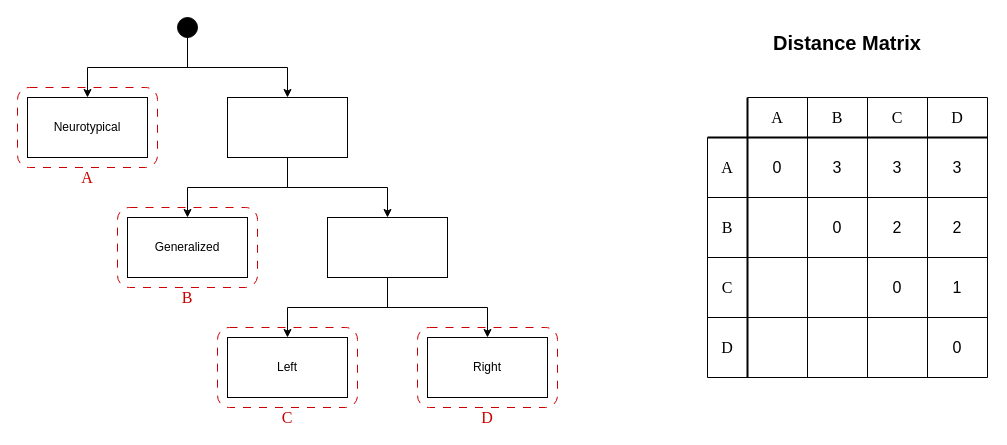
The diagram is 1007 pixels wide and 445 high, and some of its shapes have lost their labels. Each missing label, with the centre of its shape:
"Epileptic" goes at [287,127].
"Focal" goes at [387,247].
